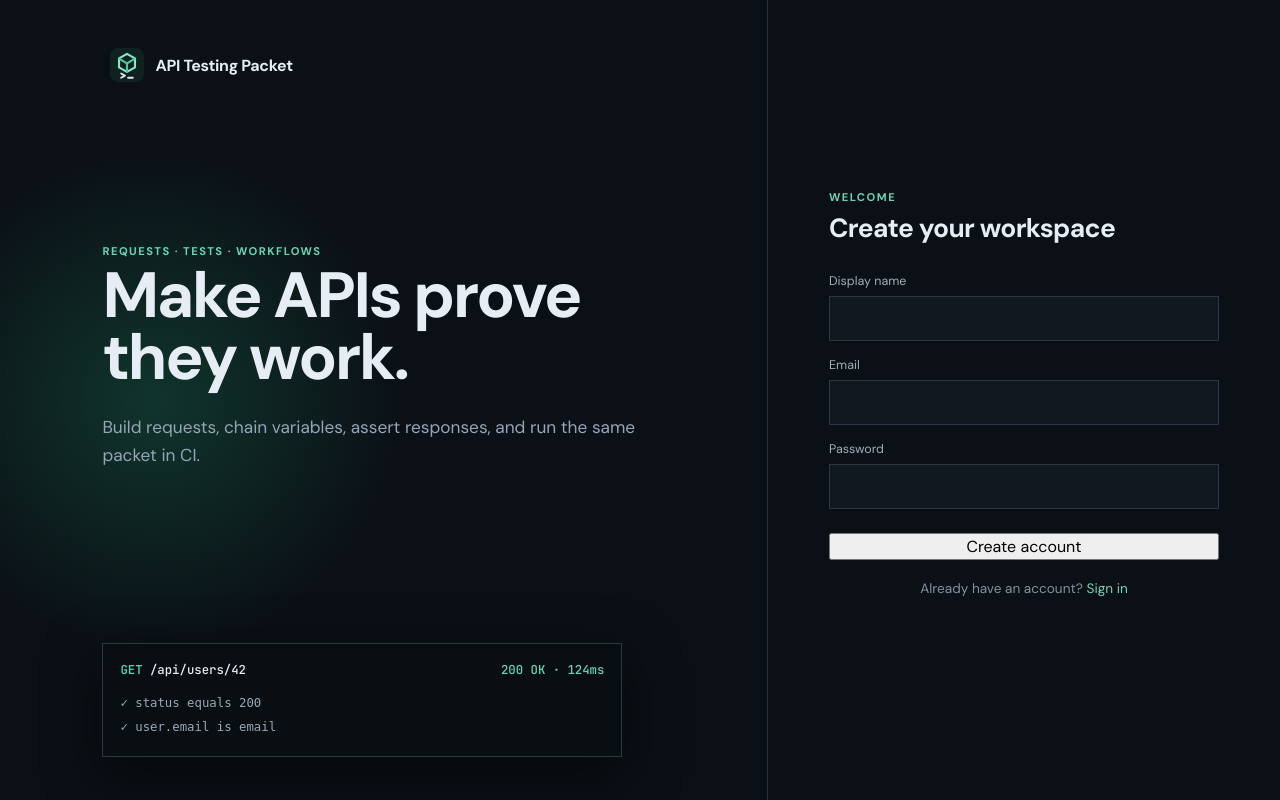
Test: registration › shows client-side validation without sending a request
What coordinates should you click on to do the following:
click the button
I would click on:
 (1024, 546)
Its box is [829,533,1219,560].
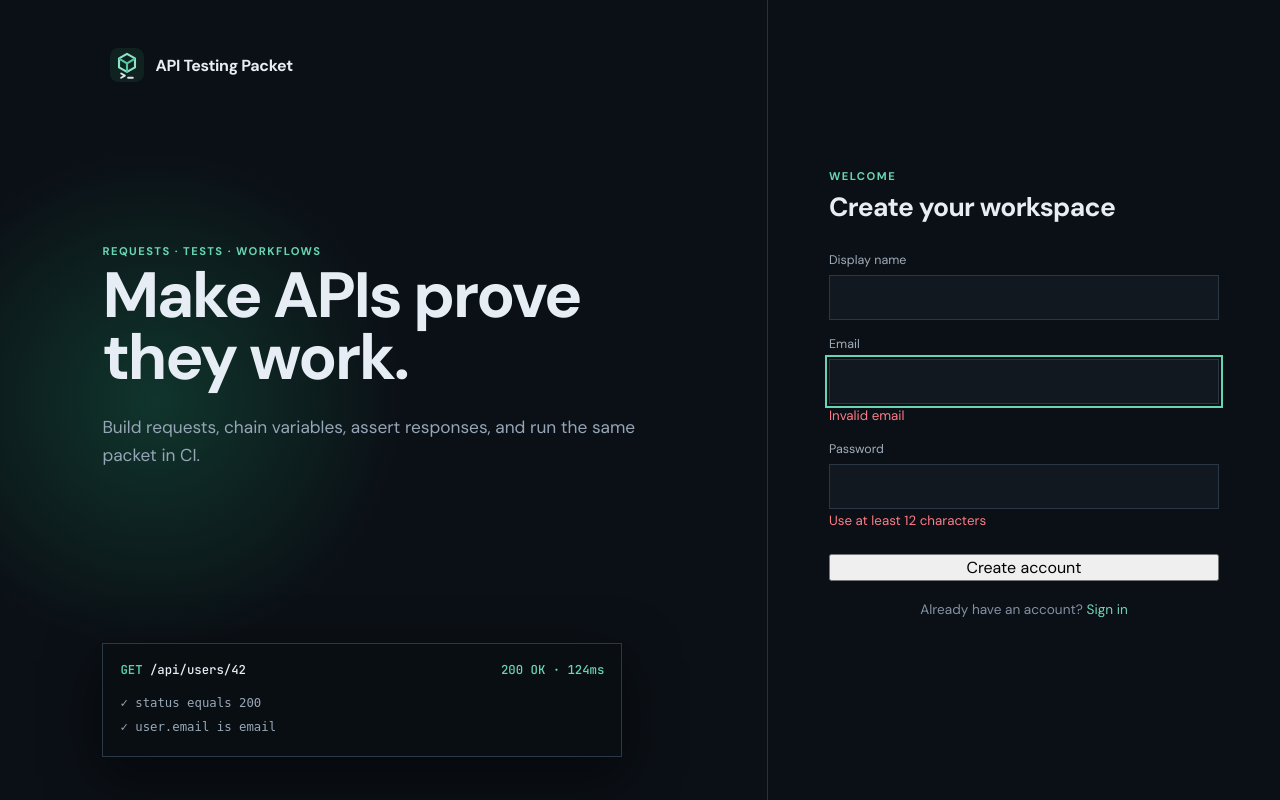
Expected: the text "Use at least 12 characters" is shown, [829,512,986,529]
